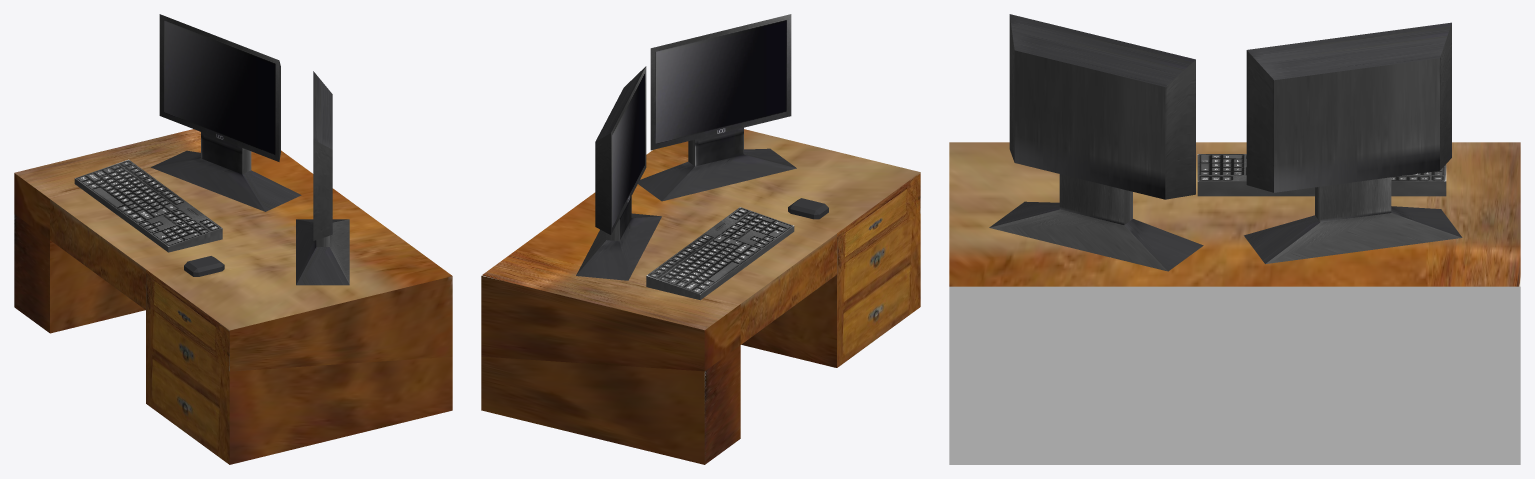
Rendered from COMPUTER.obj.
The picture shows the model from 3 angles, left to right: view 1: azimuth 30°, elevation 25°; view 2: azimuth 150°, elevation 25°; view 3: azimuth 270°, elevation 25°; orthographic projection. The views are drawn at different scales.
Parts seen in each view (by area): view 1: sphere_selection_selection_selection, sphere_selection_selection; view 2: sphere_selection_selection_selection, sphere_selection_selection; view 3: sphere_selection_selection_selection, sphere_selection_selection.
Boxes of the visible parts, box(x1,y1,x2,y2) form: sphere_selection_selection_selection: box(14, 129, 452, 464); sphere_selection_selection: box(151, 14, 349, 285); sphere_selection_selection_selection: box(481, 129, 920, 464); sphere_selection_selection: box(576, 14, 796, 280); sphere_selection_selection_selection: box(949, 142, 1520, 464); sphere_selection_selection: box(989, 14, 1462, 271).
Bounding box in the file's own units: 2.58 × 3.12 × 4.31.
Materials: 1 (1 with a texture image).
